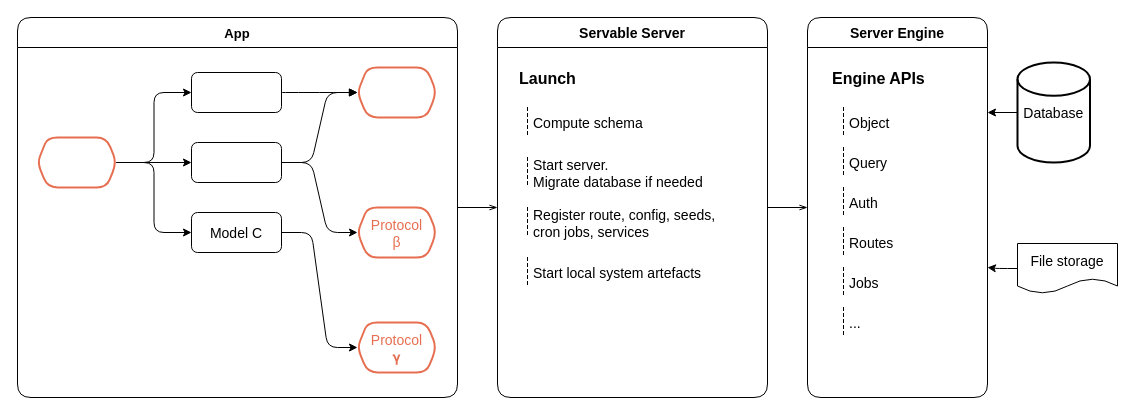
This 1135x415 diagram has some shape labels left out. The shapes that lost their labels are listed below. From the top down, each one's centre as x and y in pixels, then its label:
At (236,92): "Model A".
At (396,92): "Protocol ⍺".
At (76,162): "Protocol app".
At (236,162): "Model B".
